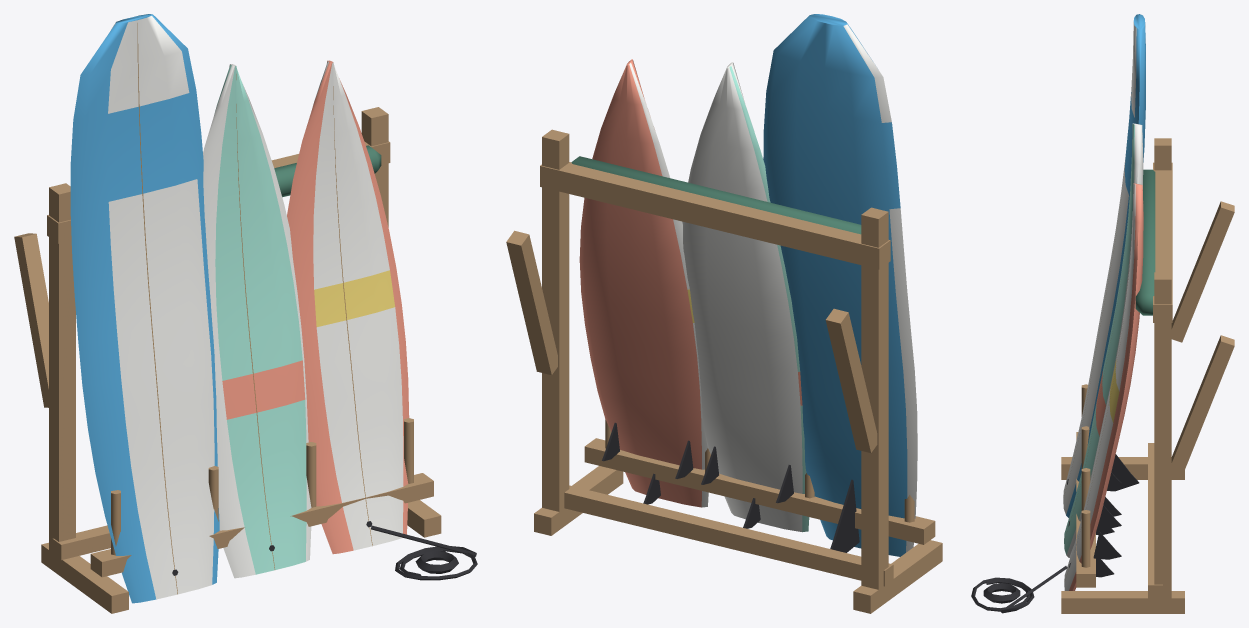
The model's file is surfboards.glb.
3 renders of one model, left to right at view 1: azimuth 30°, elevation 25°; view 2: azimuth 150°, elevation 25°; view 3: azimuth 270°, elevation 25°, orthographic. The views are drawn at different scales.
Visible parts, largest first — view 1: surfboards_body; view 2: surfboards_body; view 3: surfboards_body.
Part boxes in pixels (<box>): surfboards_body: <box>14,14,477,613</box>; surfboards_body: <box>506,14,942,613</box>; surfboards_body: <box>971,14,1234,613</box>.
Size of what is drawn, in the model's own units: 1.36 by 2.14 by 1.07.
